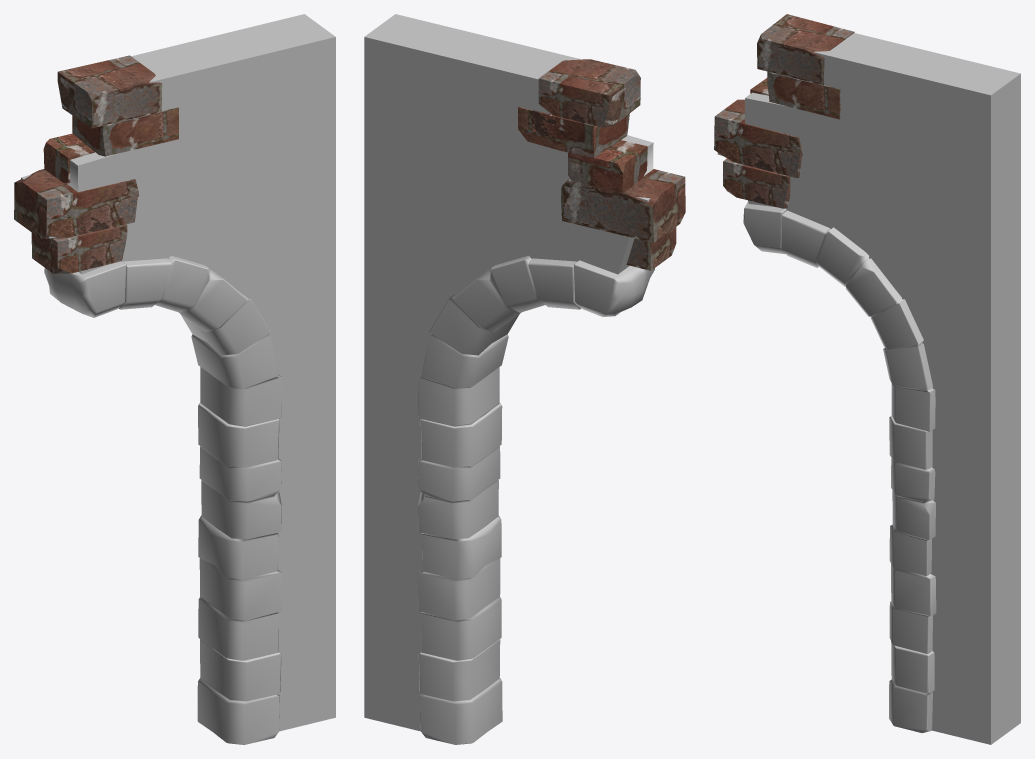
The model's file is SM_Archway_Ruined_02.fbx.
3 views of the same model, side by side, from view 1: azimuth 30°, elevation 25°; view 2: azimuth 150°, elevation 25°; view 3: azimuth 330°, elevation 25° (orthographic). The views are drawn at different scales.
Visible parts, largest first — view 1: SM_Archway_Ruined_02_LOD0; view 2: SM_Archway_Ruined_02_LOD0; view 3: SM_Archway_Ruined_02_LOD0.
Boxes of the visible parts, box(x1,y1,x2,y2) form: SM_Archway_Ruined_02_LOD0: box(14, 14, 335, 744); SM_Archway_Ruined_02_LOD0: box(364, 14, 685, 744); SM_Archway_Ruined_02_LOD0: box(714, 14, 1020, 744).
Size of what is drawn, in the model's own units: 268 by 603 by 68.54.
